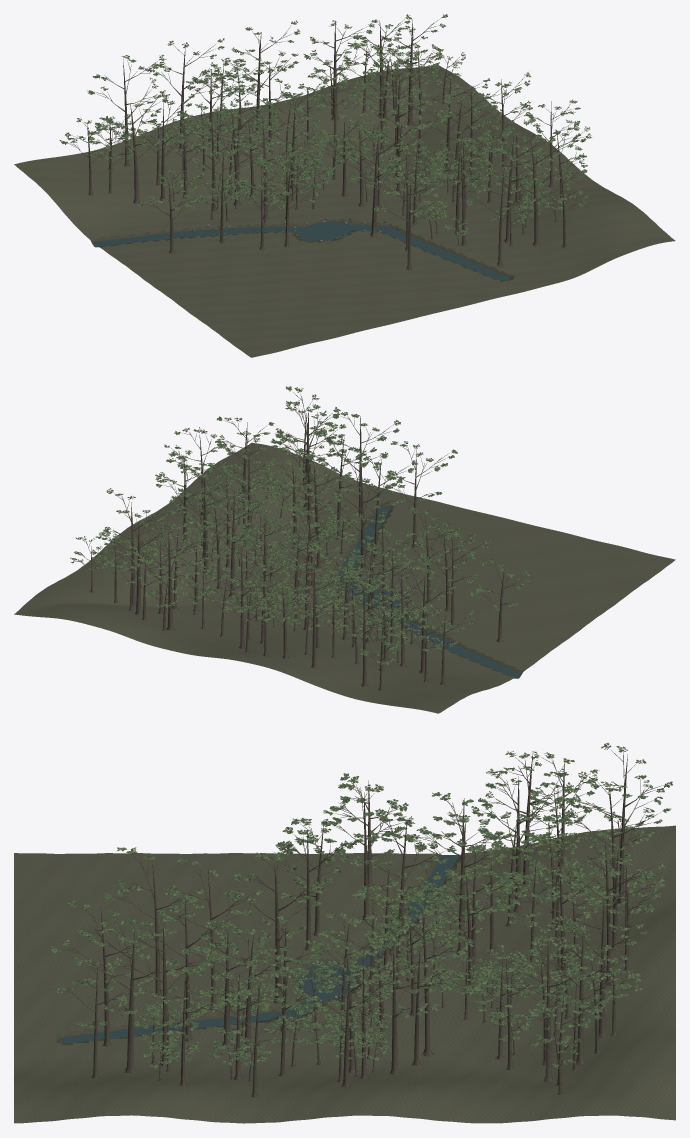
File: woodland-v10.glb
3 renders of one model, top to bottom at view 1: azimuth 30°, elevation 25°; view 2: azimuth 150°, elevation 25°; view 3: azimuth 270°, elevation 25°, orthographic. The views are drawn at different scales.
Visible parts, largest first — view 1: Woodland_ForestFloor, Woodland_v09_BranchStructure, Woodland_v09_LeafCanopy_0, Woodland_v09_LeafCanopy_3, Woodland_v09_LeafCanopy_2, Woodland_v09_LeafCanopy_1, Woodland_WaterSurface, Woodland_SoftCreekBanks; view 2: Woodland_ForestFloor, Woodland_v09_BranchStructure, Woodland_v09_LeafCanopy_0, Woodland_v09_LeafCanopy_1, Woodland_v09_LeafCanopy_3, Woodland_v09_LeafCanopy_2, Woodland_WaterSurface, Woodland_SoftCreekBanks; view 3: Woodland_ForestFloor, Woodland_v09_BranchStructure, Woodland_v09_LeafCanopy_0, Woodland_v09_LeafCanopy_1, Woodland_v09_LeafCanopy_3, Woodland_v09_LeafCanopy_2, Woodland_WaterSurface, Woodland_SoftCreekBanks.
Boxes of the visible parts, <box> form: Woodland_ForestFloor: <box>14,65,675,357</box>; Woodland_v09_BranchStructure: <box>62,16,585,270</box>; Woodland_v09_LeafCanopy_0: <box>59,15,591,260</box>; Woodland_v09_LeafCanopy_3: <box>63,14,590,234</box>; Woodland_v09_LeafCanopy_2: <box>63,15,590,235</box>; Woodland_v09_LeafCanopy_1: <box>60,14,591,234</box>; Woodland_WaterSurface: <box>92,221,509,281</box>; Woodland_SoftCreekBanks: <box>90,218,515,281</box>; Woodland_ForestFloor: <box>14,443,675,713</box>; Woodland_v09_BranchStructure: <box>76,387,524,690</box>; Woodland_v09_LeafCanopy_0: <box>72,386,526,663</box>; Woodland_v09_LeafCanopy_1: <box>74,387,529,664</box>; Woodland_v09_LeafCanopy_3: <box>71,387,530,664</box>; Woodland_v09_LeafCanopy_2: <box>70,387,530,663</box>; Woodland_WaterSurface: <box>335,506,521,678</box>; Woodland_SoftCreekBanks: <box>331,503,523,678</box>; Woodland_ForestFloor: <box>14,825,675,1123</box>; Woodland_v09_BranchStructure: <box>54,747,668,1097</box>; Woodland_v09_LeafCanopy_0: <box>50,743,666,1069</box>; Woodland_v09_LeafCanopy_1: <box>51,746,670,1067</box>; Woodland_v09_LeafCanopy_3: <box>50,743,672,1067</box>; Woodland_v09_LeafCanopy_2: <box>50,746,672,1067</box>; Woodland_WaterSurface: <box>59,855,459,1043</box>; Woodland_SoftCreekBanks: <box>56,853,461,1045</box>.
Bounding box in the file's own units: 64 × 18.17 × 62.
11 materials, 7 textured.
